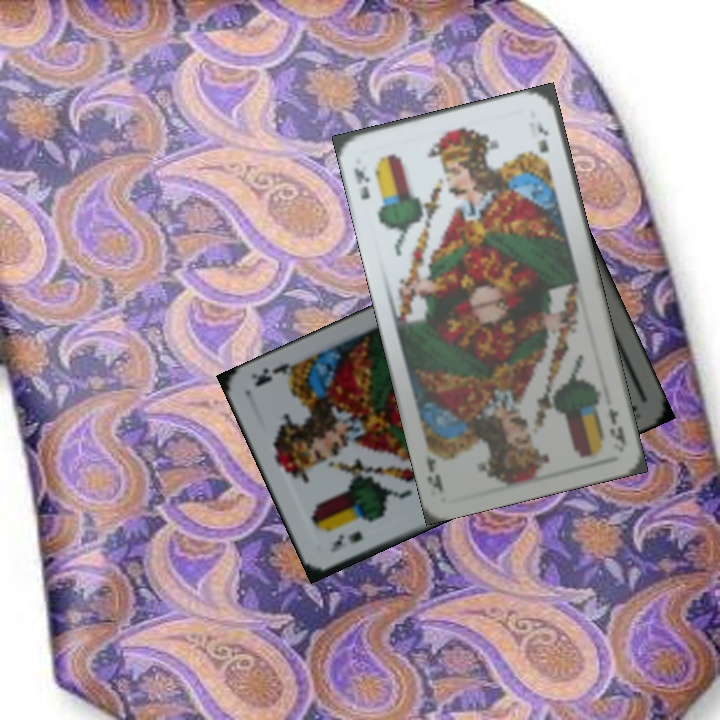EK: (325, 526, 366, 556), (605, 404, 629, 450), (350, 164, 373, 203)
